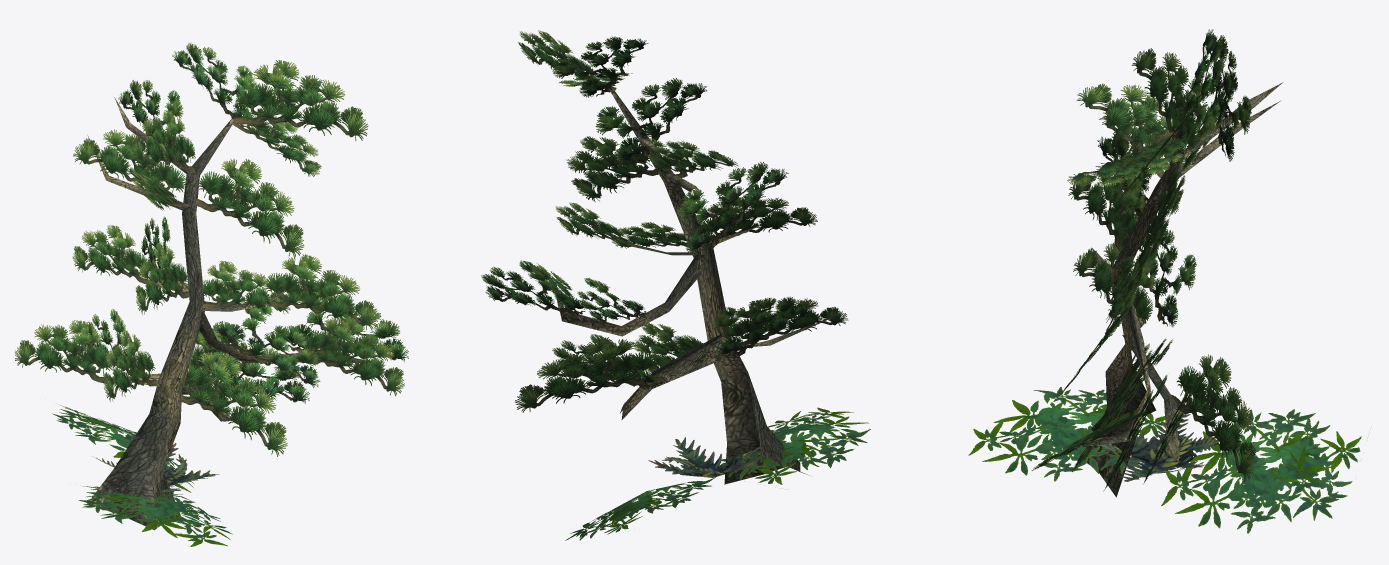
File: zhiwu4.FBX
The picture shows the model from 3 angles, left to right: view 1: azimuth 30°, elevation 25°; view 2: azimuth 150°, elevation 25°; view 3: azimuth 270°, elevation 25°; orthographic projection. The views are drawn at different scales.
Parts seen in each view (by area): view 1: 对象030; view 2: 对象030; view 3: 对象030.
Boxes of the visible parts, x1,y1,x2,y2 form: 对象030: (14, 43, 408, 546); 对象030: (481, 30, 870, 540); 对象030: (968, 29, 1361, 533).
Bounding box in the file's own units: 10.9 × 11.7 × 8.57.
